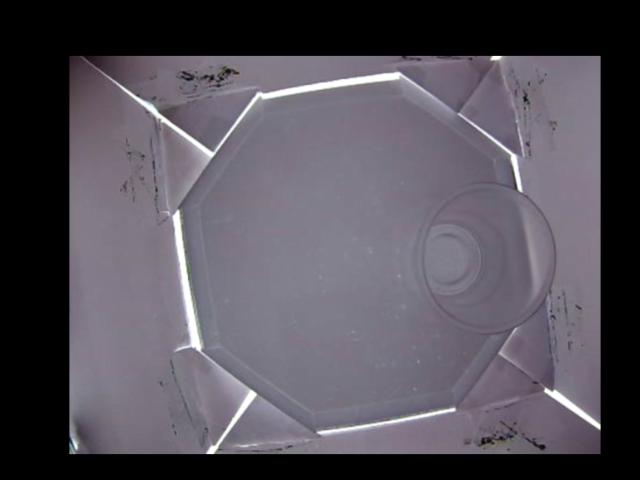Cup: (411, 178, 558, 334)
